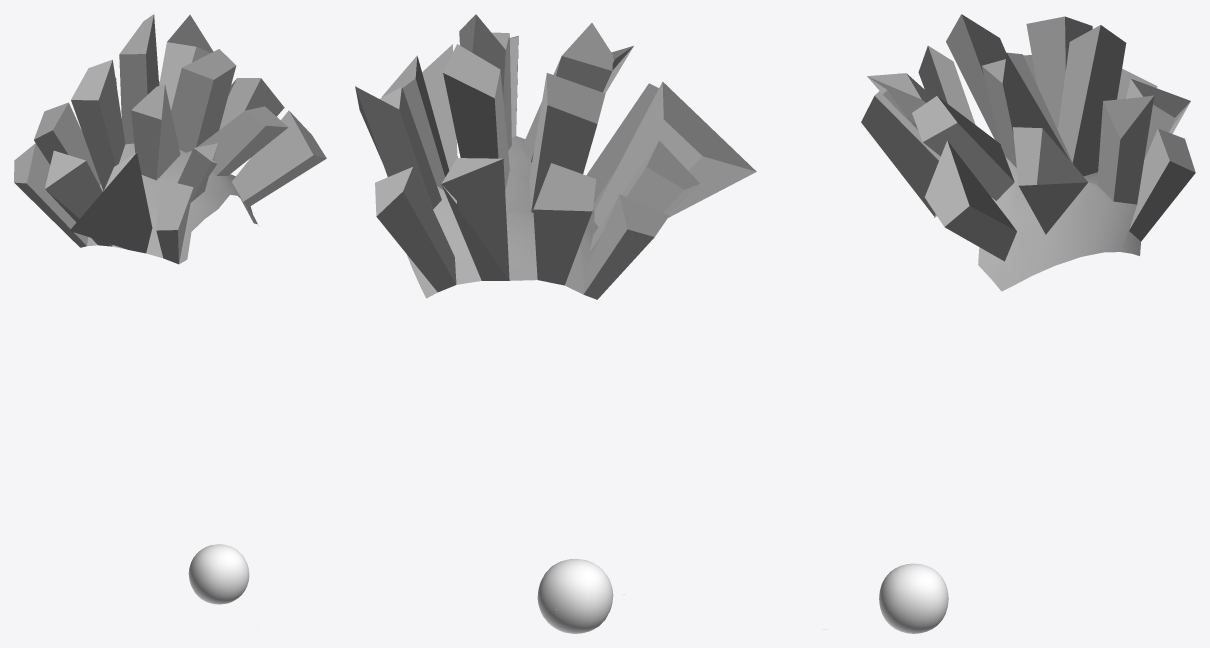
File: effectsMeshes.fbx
3 renders of one model, left to right at view 1: azimuth 30°, elevation 25°; view 2: azimuth 150°, elevation 25°; view 3: azimuth 270°, elevation 25°, orthographic. The views are drawn at different scales.
Visible parts, largest first — view 1: pCube1, drainSphere; view 2: pCube1, drainSphere; view 3: pCube1, drainSphere.
Boxes of the visible parts, x1,y1,x2,y2 form: pCube1: (14,14,326,264); drainSphere: (188,544,249,604); pCube1: (355,14,756,299); drainSphere: (537,558,613,633); pCube1: (861,14,1195,291); drainSphere: (879,563,948,633).
Bounding box in the file's own units: 0.6684 × 1.25 × 0.7571.
